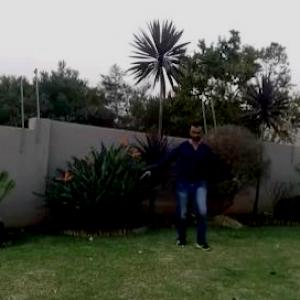land: (132, 116, 238, 250)
